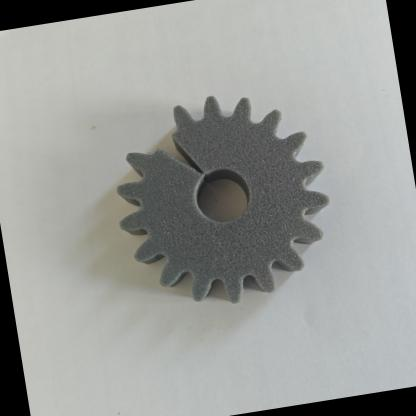defect: (110, 105, 221, 206)
gear: (86, 68, 352, 328)
